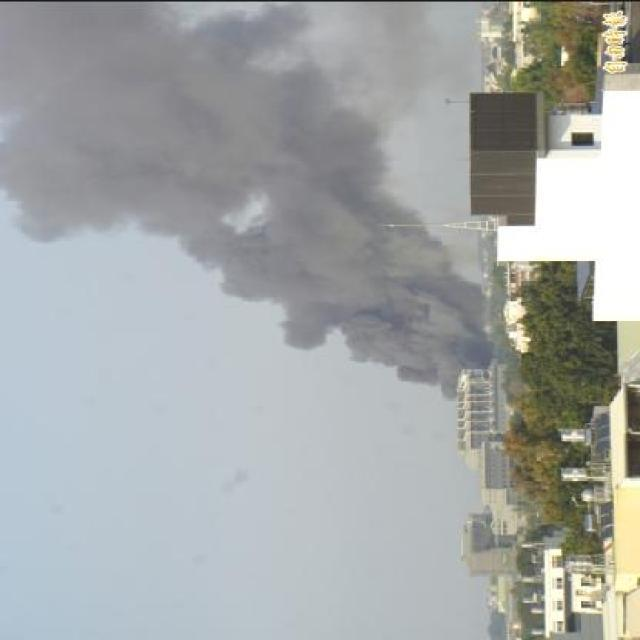Smoke: (0, 0, 496, 404)
